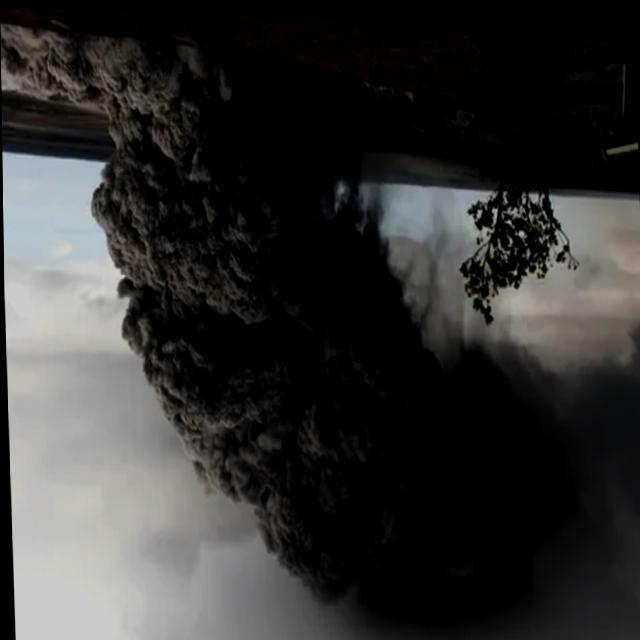no_helmet: (87, 40, 525, 640)
